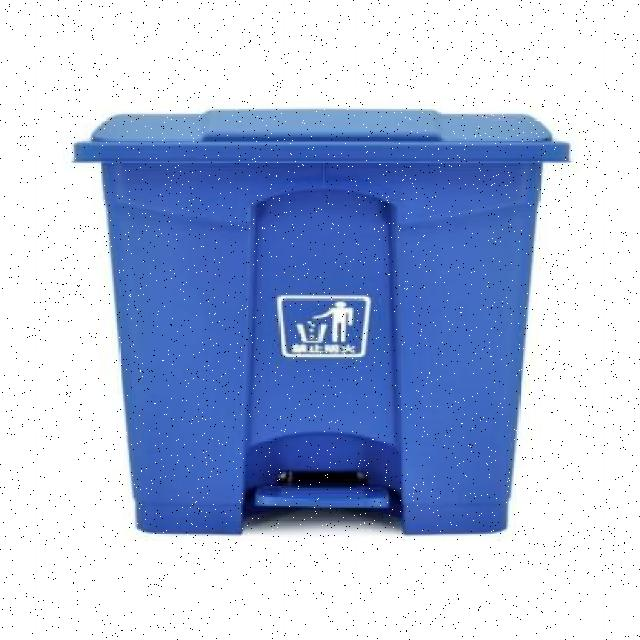garbage container: (67, 95, 604, 557)
